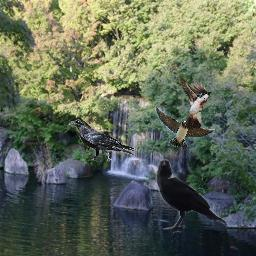Crow: (155, 159, 227, 230), (68, 119, 139, 162)
Swallow: (155, 106, 215, 147), (177, 71, 212, 129)
